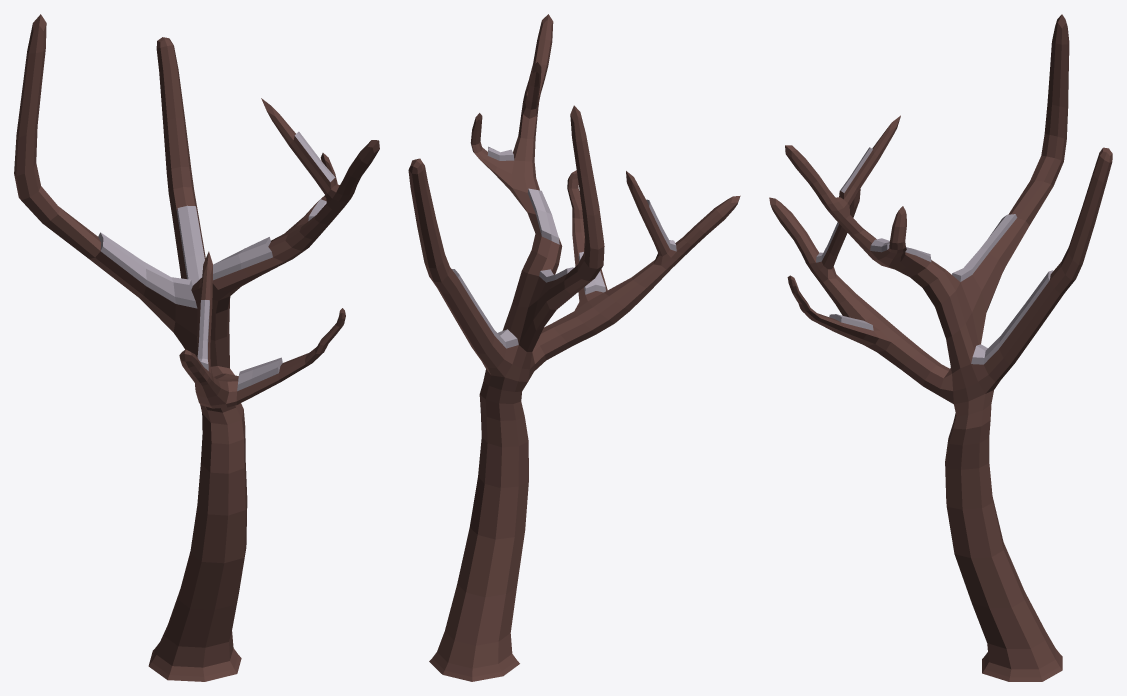
Rendered from CommonTree_Dead_Snow_5.gltf.
3 views of the same model, side by side, from view 1: azimuth 30°, elevation 25°; view 2: azimuth 150°, elevation 25°; view 3: azimuth 270°, elevation 25° (orthographic). The views are drawn at different scales.
Parts seen in each view (by area): view 1: CommonTree_Dead_Snow_5; view 2: CommonTree_Dead_Snow_5; view 3: CommonTree_Dead_Snow_5.
Part boxes in pixels (<box>): CommonTree_Dead_Snow_5: <box>14,14,379,681</box>; CommonTree_Dead_Snow_5: <box>408,14,740,681</box>; CommonTree_Dead_Snow_5: <box>769,14,1112,681</box>.
Bounding box in the file's own units: 0.8443 × 2.3 × 1.2.
